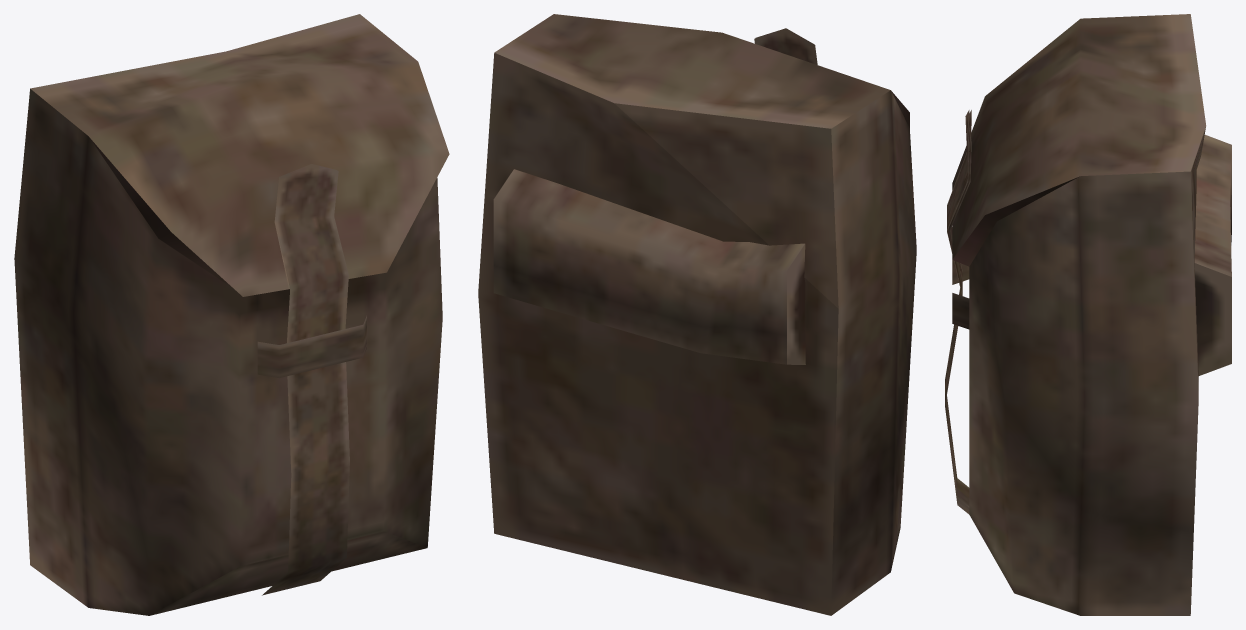
File: eqp_comp_cargo_pocket.fbx
3 views of the same model, side by side, from view 1: azimuth 30°, elevation 25°; view 2: azimuth 150°, elevation 25°; view 3: azimuth 270°, elevation 25° (orthographic). The views are drawn at different scales.
Visible parts, largest first — view 1: mesh_node; view 2: mesh_node; view 3: mesh_node.
Part boxes in pixels (x1,y1,x2,y2): mesh_node: [14, 14, 449, 615]; mesh_node: [478, 14, 916, 615]; mesh_node: [945, 14, 1231, 615].
Size of the model in its own units: 0.1371 by 0.1812 by 0.1023.
Materials: 1 (1 with a texture image).
